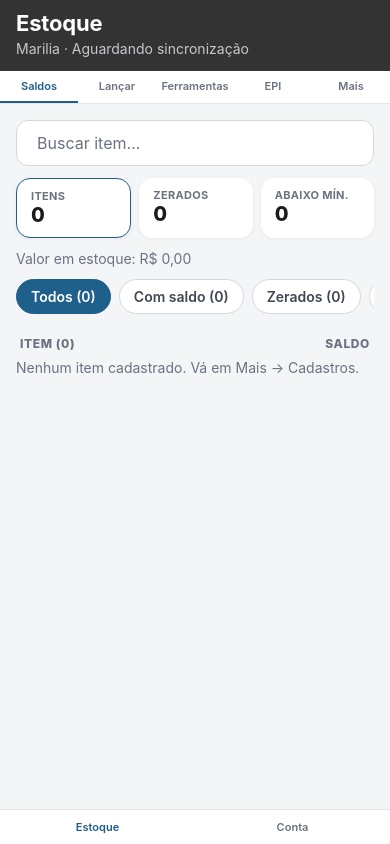
Test: Importar planilha › mostra o que será importado e grava ao confirmar
The width and height of the screenshot is (390, 844).
Click the element with test id "aba-mais" at (351, 86), box [338,79,364,93]
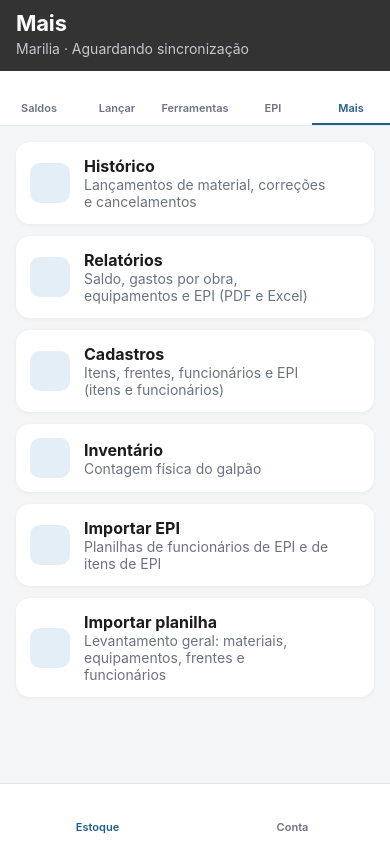
Click the element with test id "abrir-importar" at (195, 648), box [16,598,374,697]
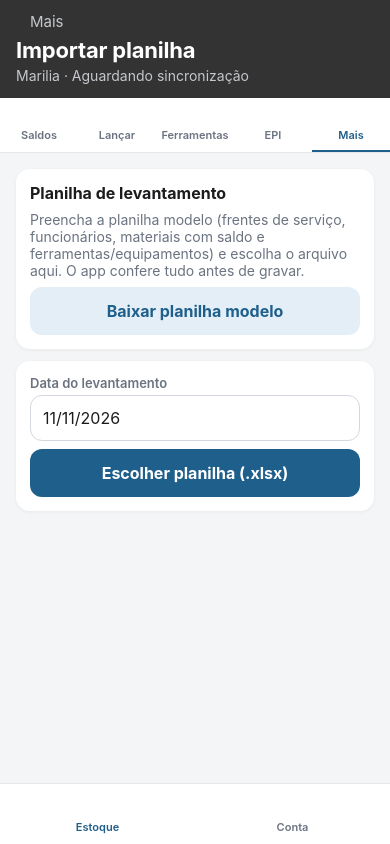
Click the element with test id "escolher-planilha" at (195, 473), box [30,449,360,497]
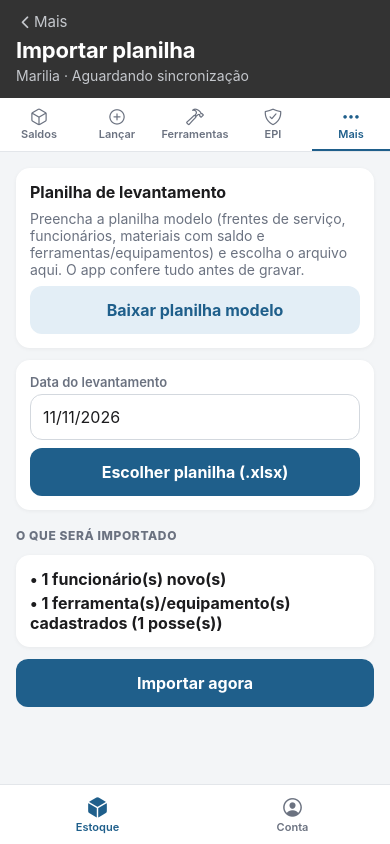
Result: the text "• 1 funcionário(s) novo(s)" is shown at [30,569,226,589]
Result: the text "• 1 ferramenta(s)/equipamento(s) cadastrados (1 posse(s))" is shown at [30,593,294,633]
Click the element with test id "confirmar-importacao" at (195, 683), box [16,659,374,707]
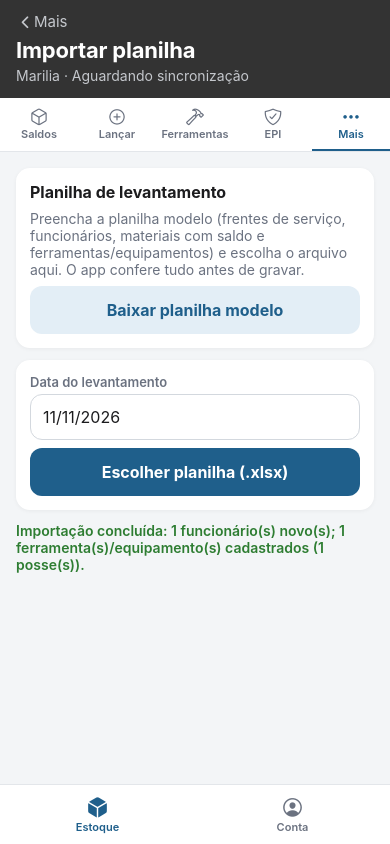
Result: the text with test id "ok" shows "Importação concluída" at [16,522,349,573]
